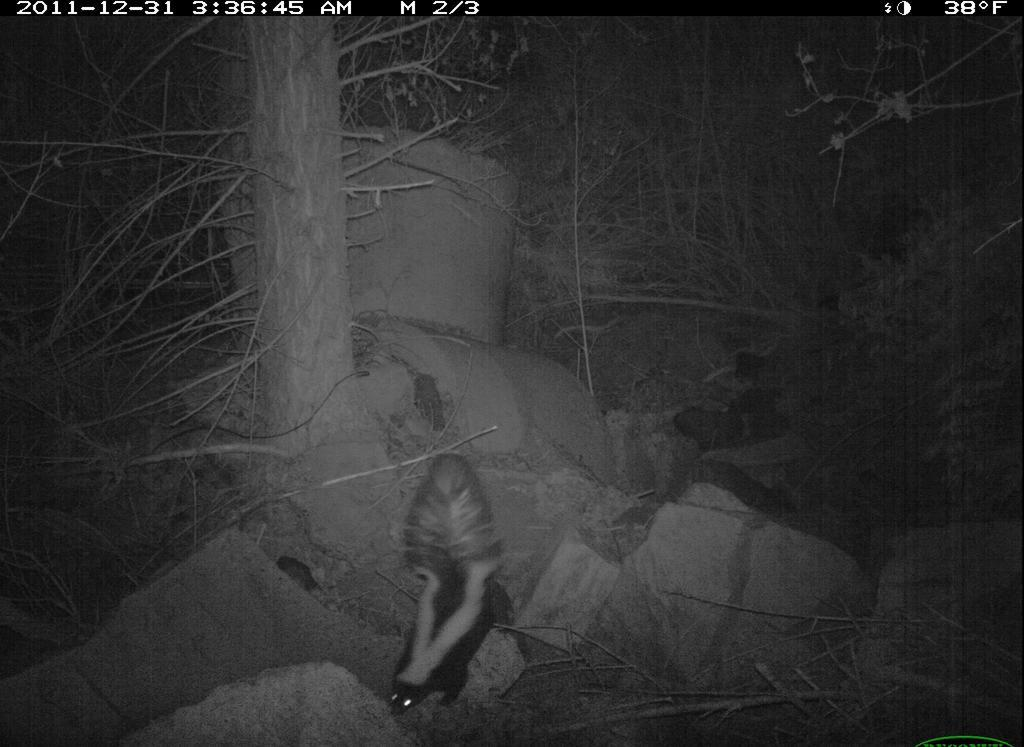skunk: (353, 442, 543, 730)
